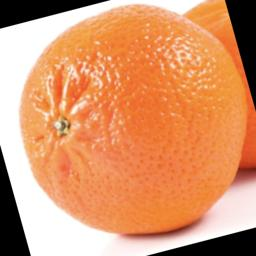Orange Fresh: (13, 21, 241, 243)
